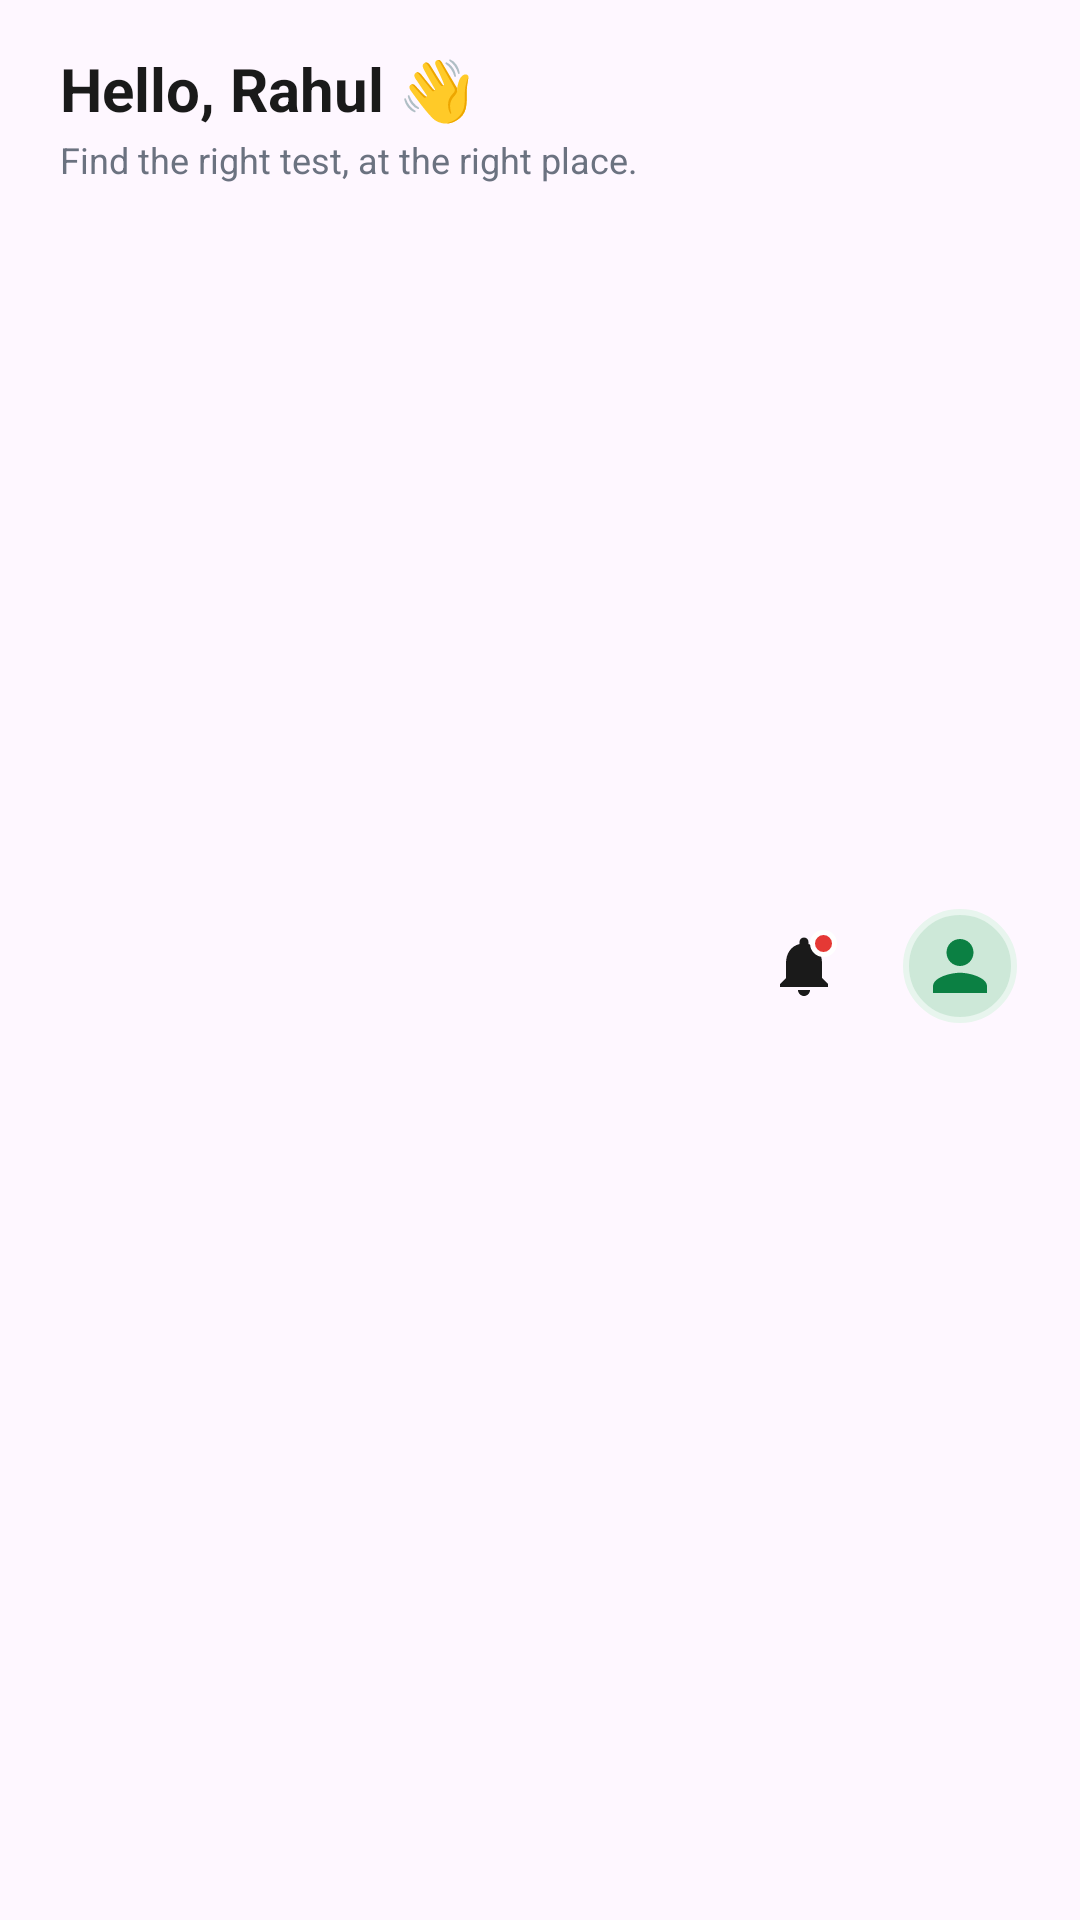

Point at icon controls on the screen. Image size 1080w x 1920h, points as (x,y).
Notifications: (806,965)
